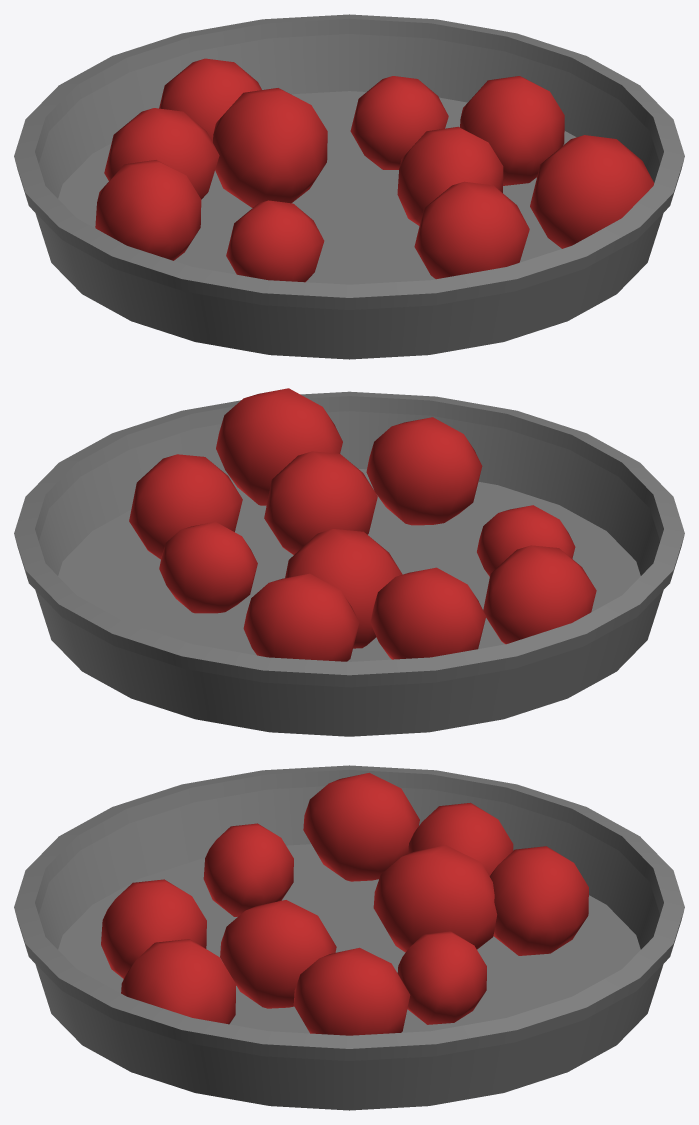
The model's file is SM_basket_fruits_03.fbx.
The picture shows the model from 3 angles, top to bottom: view 1: azimuth 30°, elevation 25°; view 2: azimuth 150°, elevation 25°; view 3: azimuth 270°, elevation 25°; orthographic projection.
Parts seen in each view (by area): view 1: Object32629; view 2: Object32629; view 3: Object32629.
Boxes of the visible parts, x1=… form: Object32629: x1=14, y1=14, x2=684, y2=359; Object32629: x1=14, y1=388, x2=684, y2=736; Object32629: x1=14, y1=765, x2=684, y2=1110.
Size of the model in its own units: 33.68 by 6.3 by 33.68.
